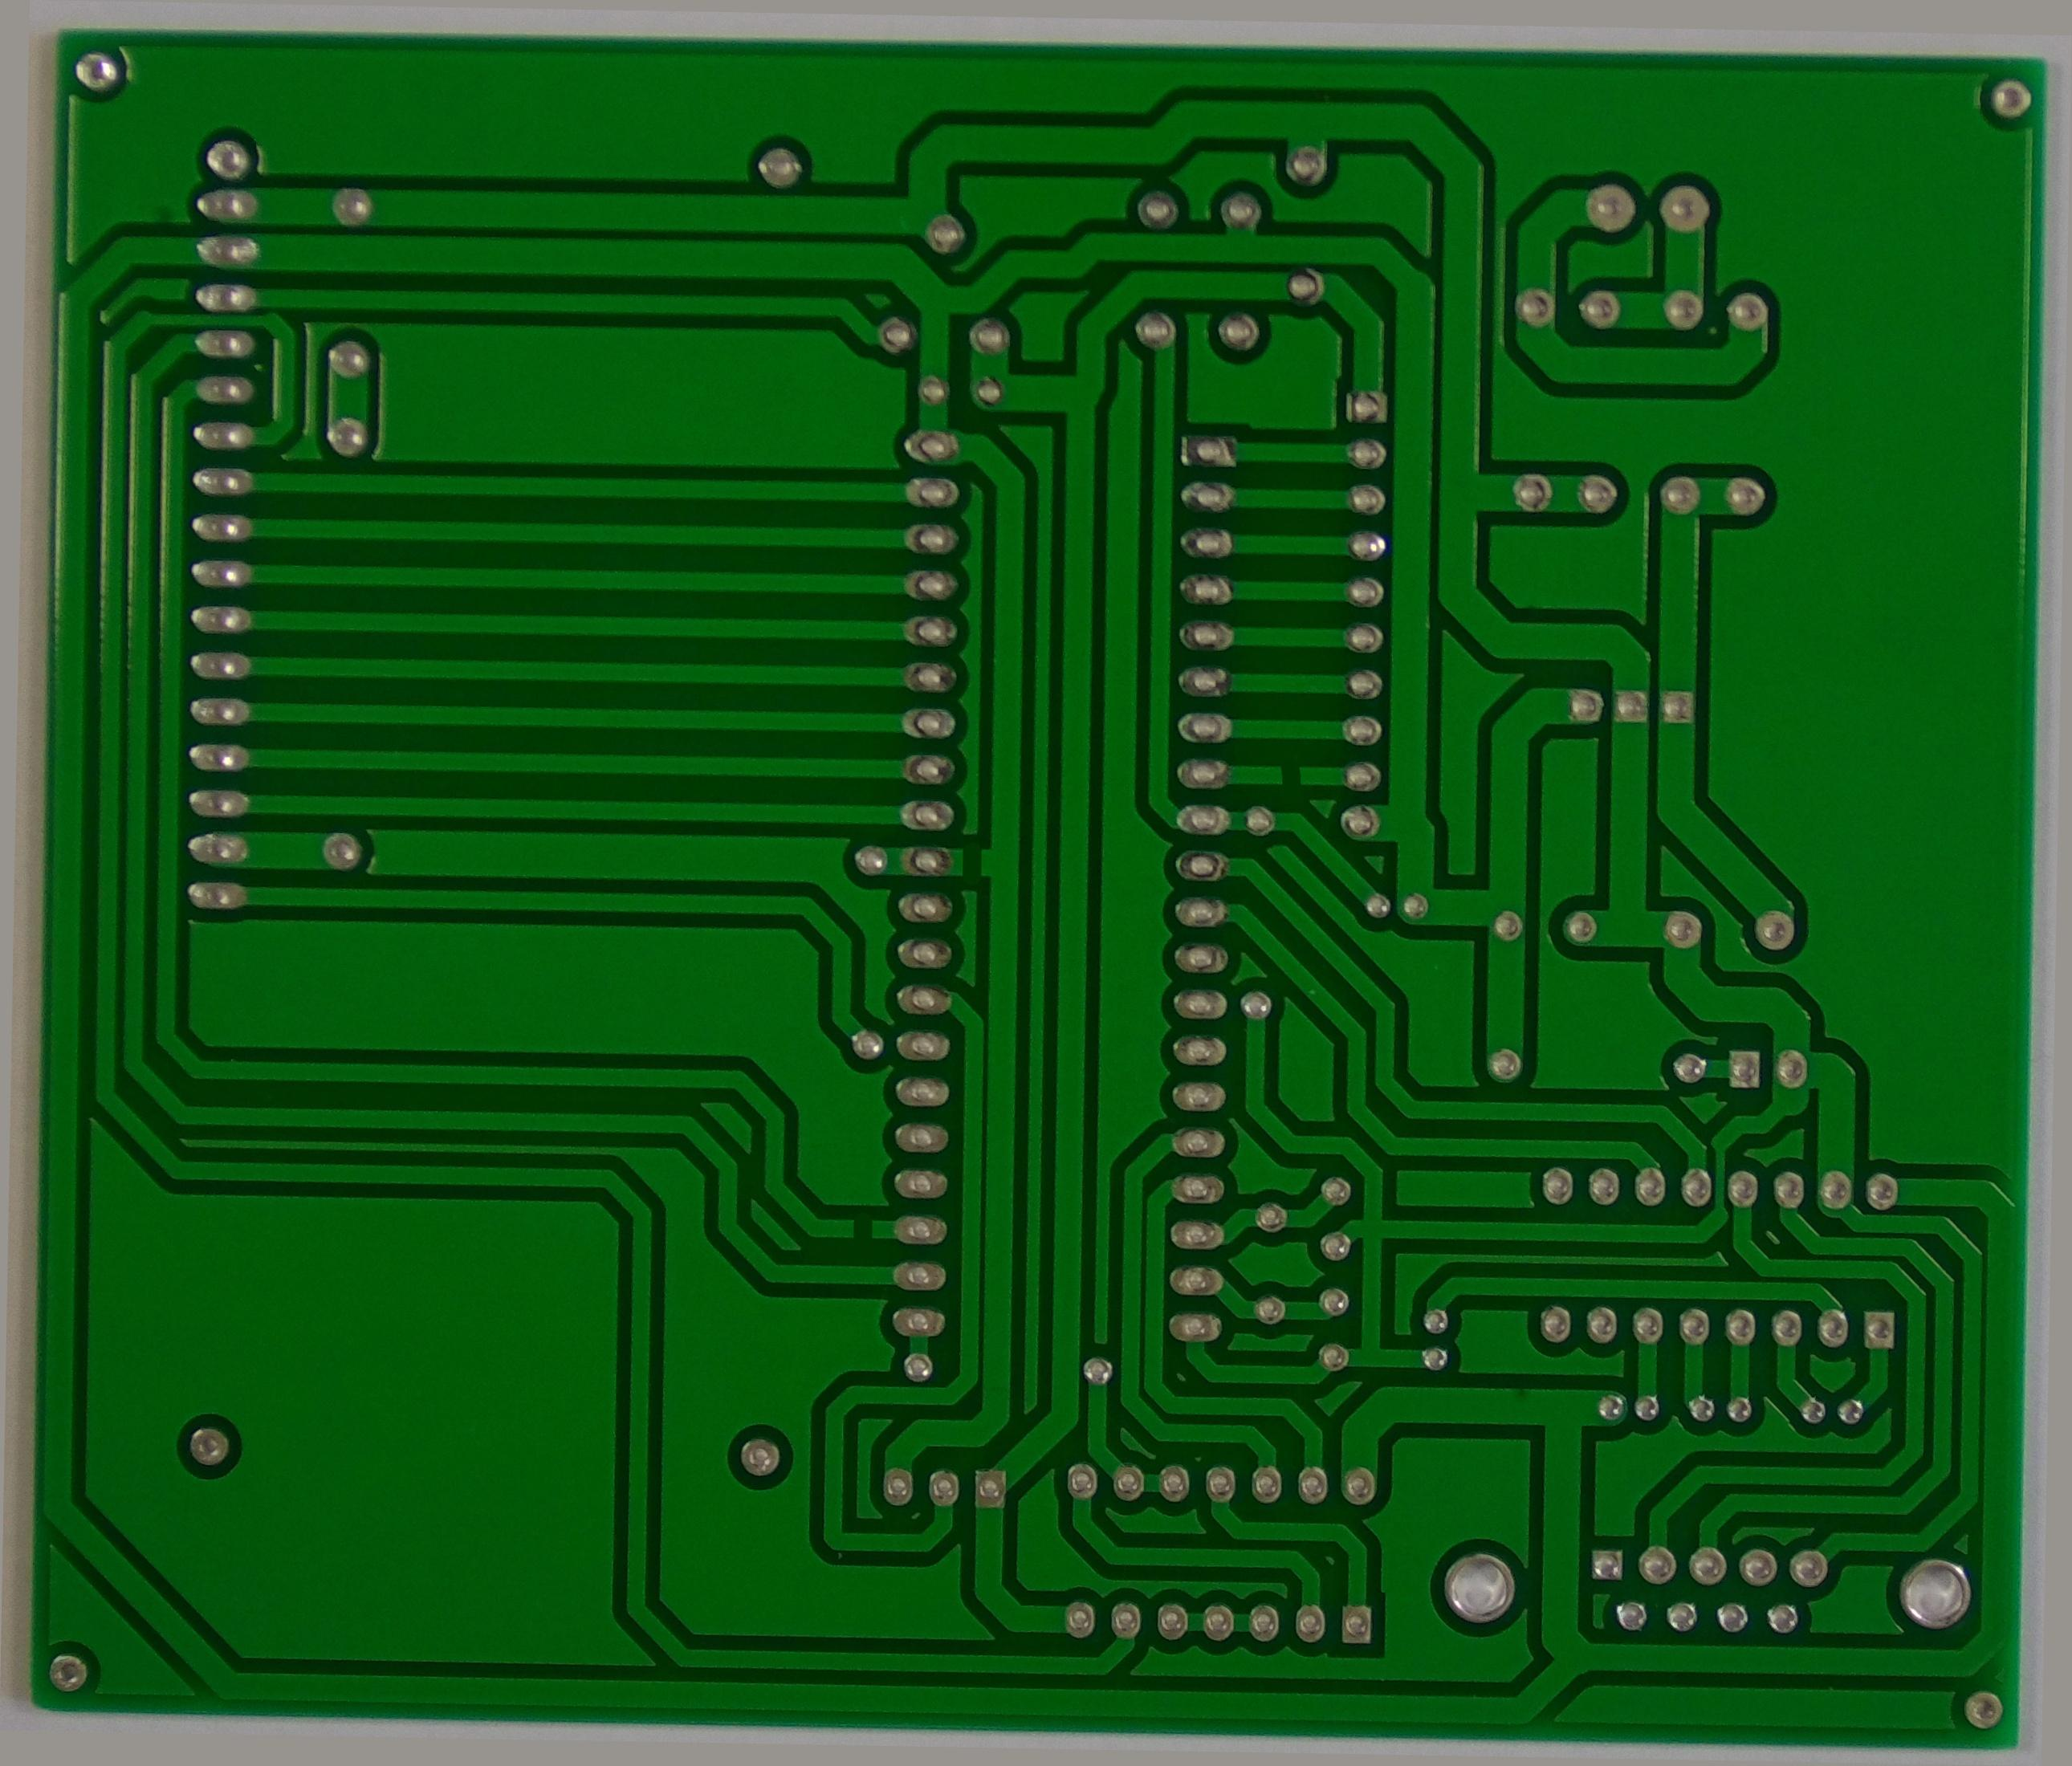open_circuit: (842, 1216, 888, 1260), (953, 841, 990, 885), (1272, 748, 1315, 785)
